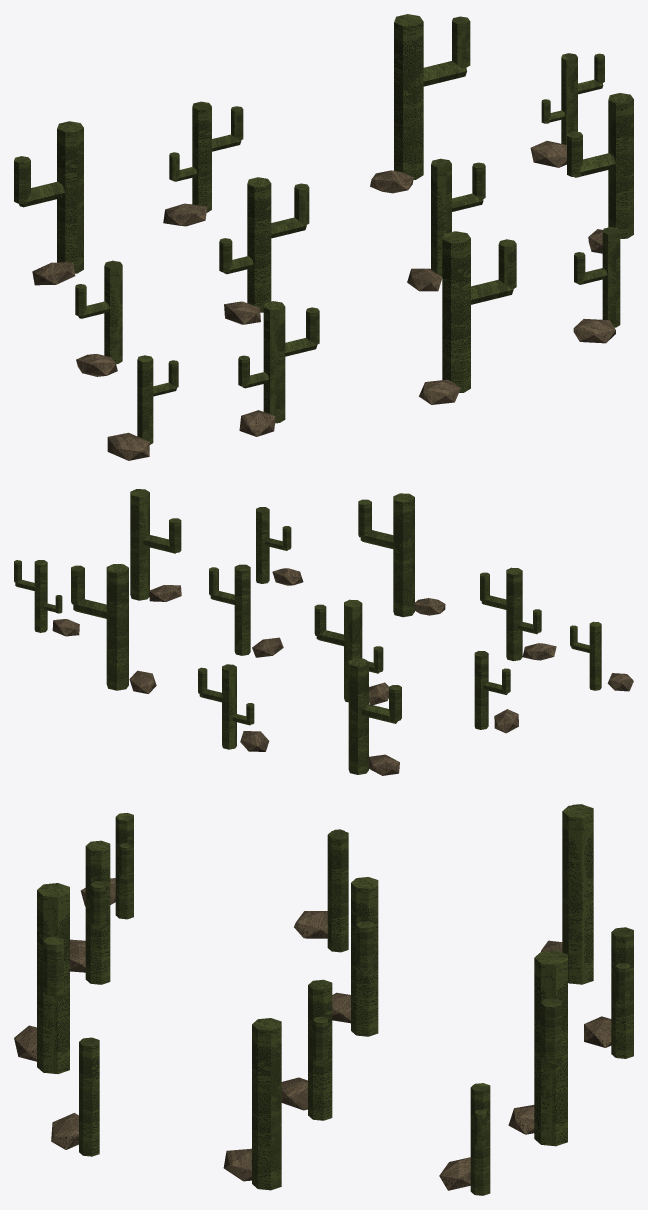
The model's file is cactus_thicket.glb.
3 renders of one model, top to bottom at view 1: azimuth 30°, elevation 25°; view 2: azimuth 150°, elevation 25°; view 3: azimuth 270°, elevation 25°, orthographic. The views are drawn at different scales.
Parts seen in each view (by area): view 1: cactus_thicket; view 2: cactus_thicket; view 3: cactus_thicket.
Part boxes in pixels (<box>): cactus_thicket: <box>14,14,633,460</box>; cactus_thicket: <box>14,489,633,775</box>; cactus_thicket: <box>14,804,633,1195</box>.
Size of the model in its own units: 9.96 by 2.69 by 6.97.
1 material, 1 textured.
